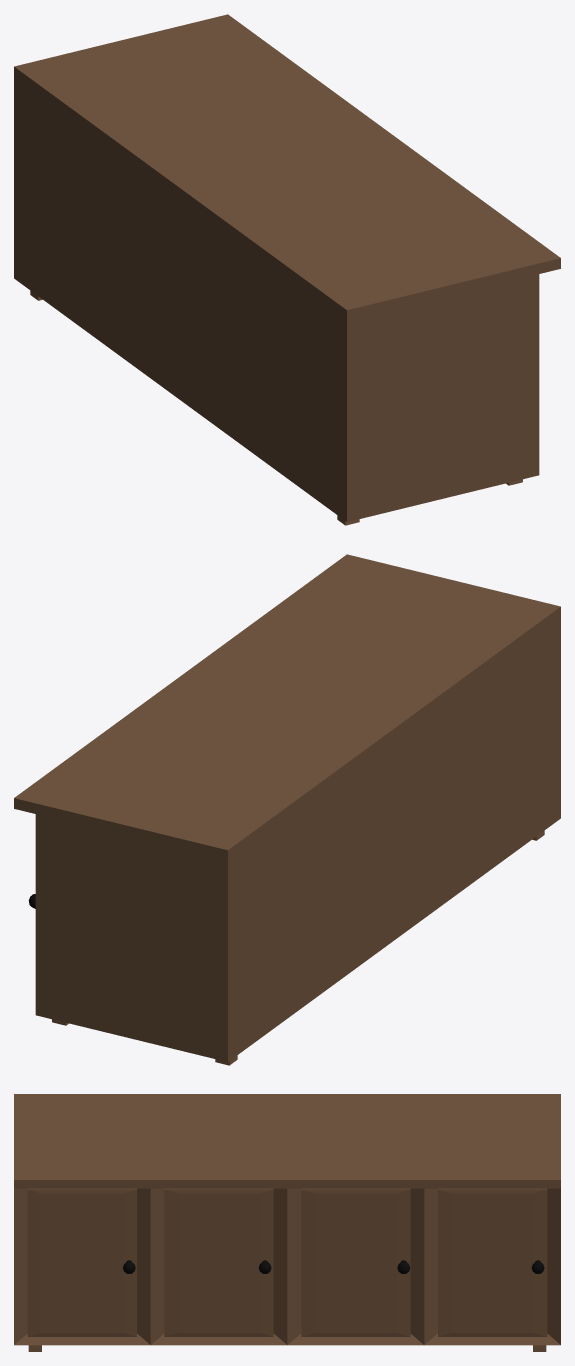
Rendered from Kitchen  cabinet.fbx.
The picture shows the model from 3 angles, top to bottom: view 1: azimuth 30°, elevation 25°; view 2: azimuth 150°, elevation 25°; view 3: azimuth 270°, elevation 25°; orthographic projection. The views are drawn at different scales.
Visible parts, largest first — view 1: KitechenCainet; view 2: KitechenCainet; view 3: KitechenCainet.
Boxes of the visible parts, x1=… form: KitechenCainet: x1=14, y1=14, x2=560, y2=525; KitechenCainet: x1=14, y1=554, x2=560, y2=1065; KitechenCainet: x1=14, y1=1094, x2=560, y2=1351.
Bounding box in the file's own units: 223 × 222 × 600.
